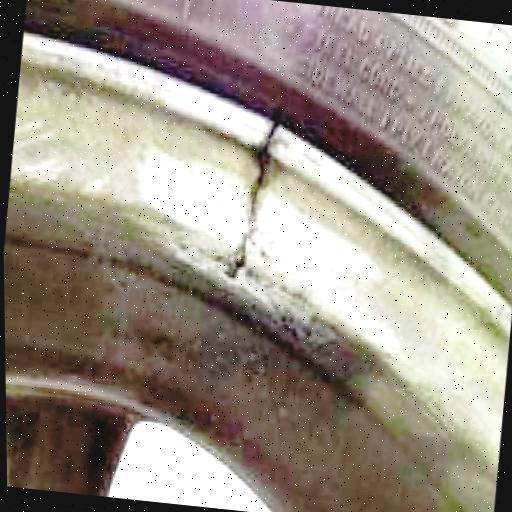crack: (209, 116, 300, 314)
